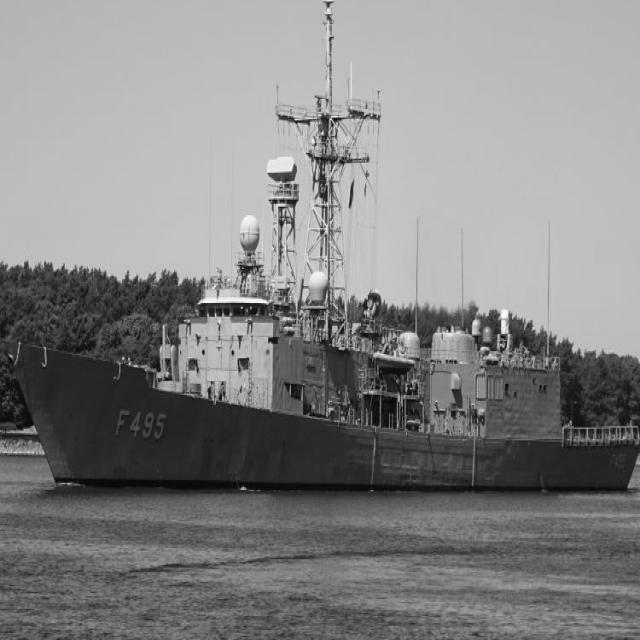Fragata: (2, 1, 640, 501)
